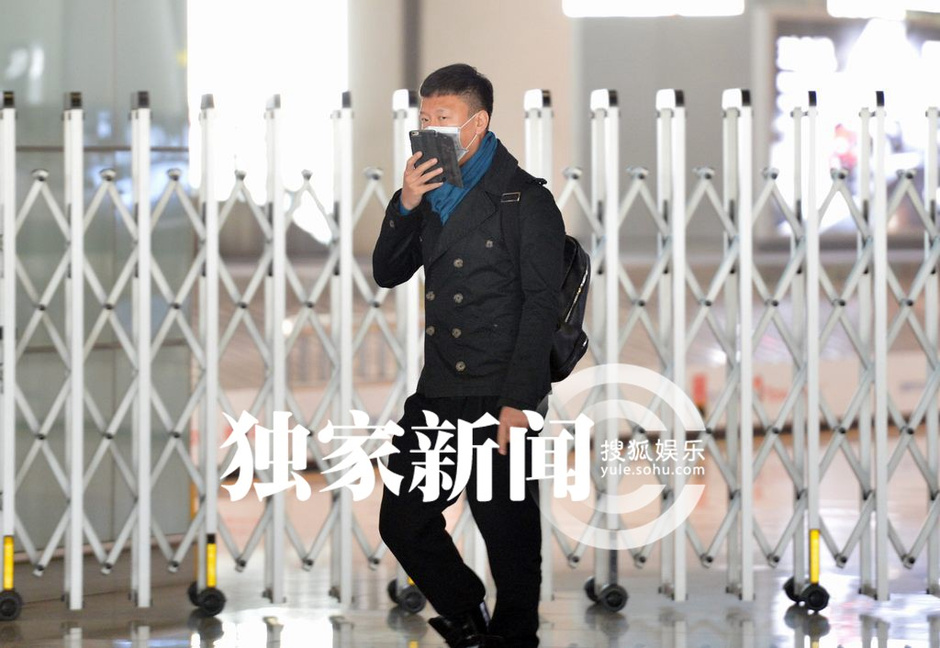face_mask: (416, 96, 474, 162)
